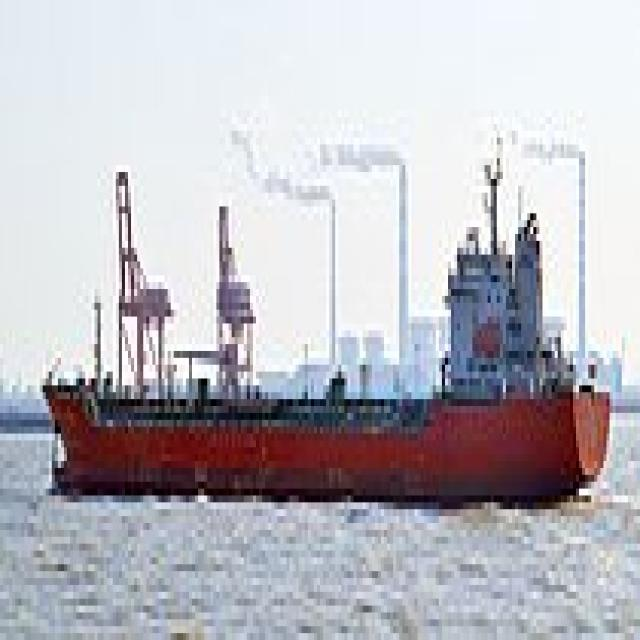Tanker: (33, 213, 610, 502)
